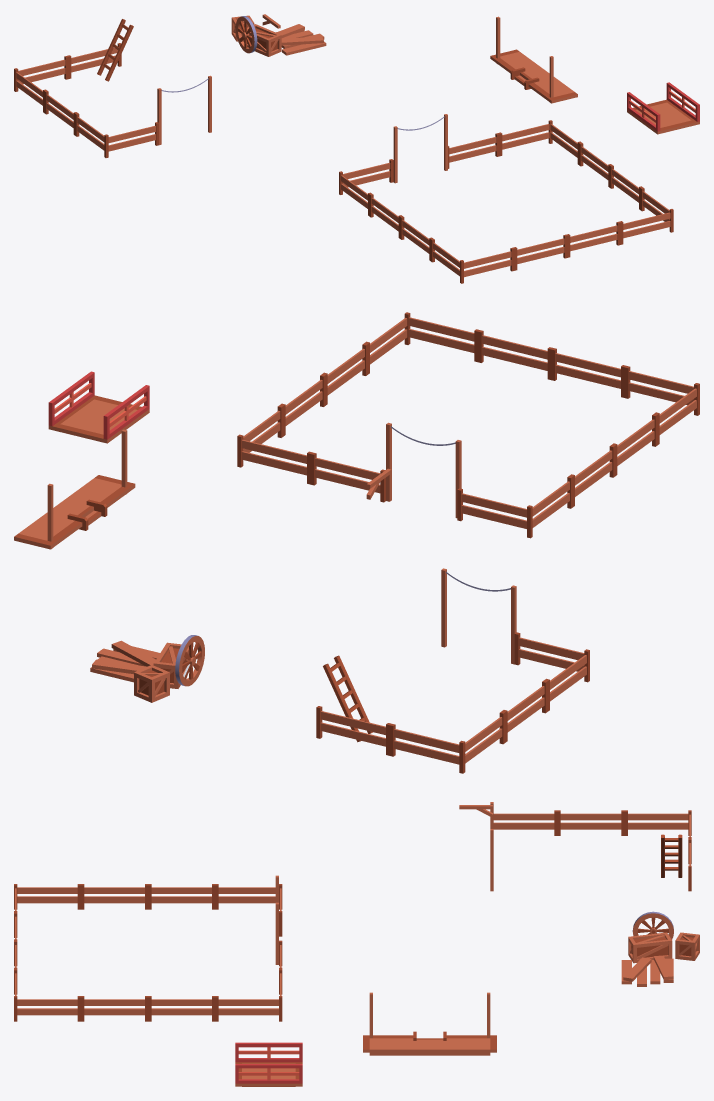
Rendered from Fences and planks.fbx.
The picture shows the model from 3 angles, top to bottom: view 1: azimuth 30°, elevation 25°; view 2: azimuth 150°, elevation 25°; view 3: azimuth 270°, elevation 25°; orthographic projection. The views are drawn at different scales.
Parts seen in each view (by area): view 1: mergedBlocks; view 2: mergedBlocks; view 3: mergedBlocks.
Part boxes in pixels (<box>): mergedBlocks: <box>14,14,699,283</box>; mergedBlocks: <box>14,312,699,773</box>; mergedBlocks: <box>14,802,699,1086</box>.
Size of the model in its own units: 90.01 by 18.83 by 102.
